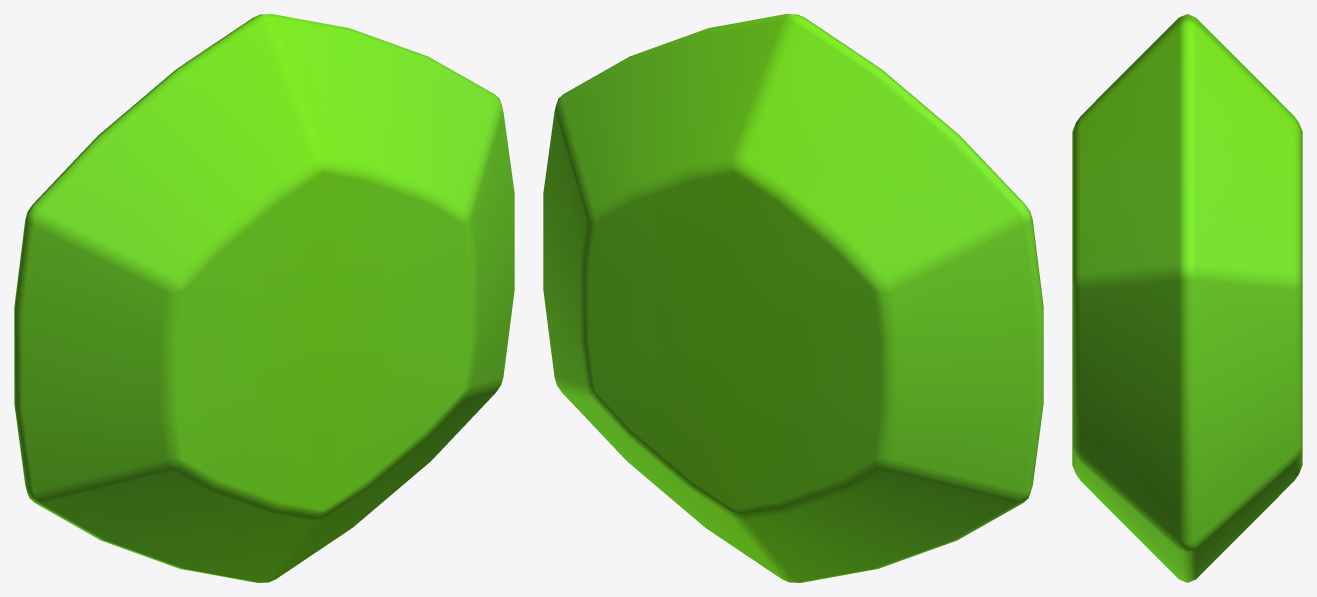
3 renders of one model, left to right at view 1: azimuth 30°, elevation 25°; view 2: azimuth 150°, elevation 25°; view 3: azimuth 270°, elevation 25°, orthographic. The views are drawn at different scales.
Parts seen in each view (by area): view 1: model_0.103; view 2: model_0.103; view 3: model_0.103.
Boxes of the visible parts, <box> form: model_0.103: <box>14,14,514,582</box>; model_0.103: <box>543,14,1043,582</box>; model_0.103: <box>1072,14,1302,582</box>.
Bounding box in the file's own units: 3.29 × 3.59 × 1.35.
